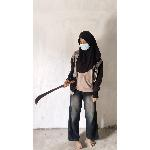Golok: (32, 77, 77, 107)
